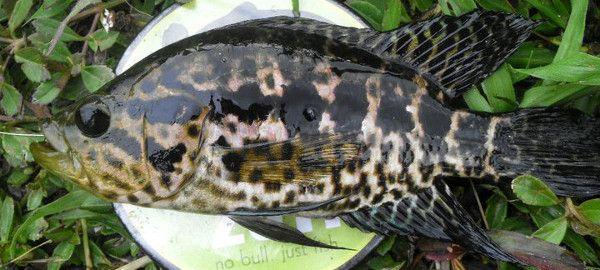Jaguar Gapote: (26, 12, 600, 270)
